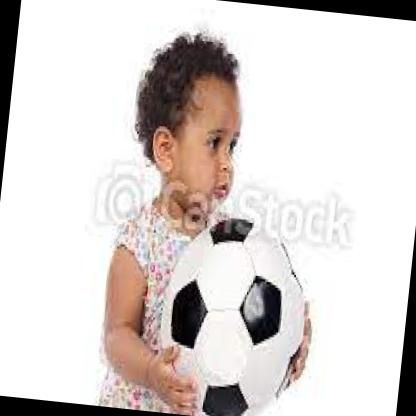ball: (151, 210, 314, 416)
